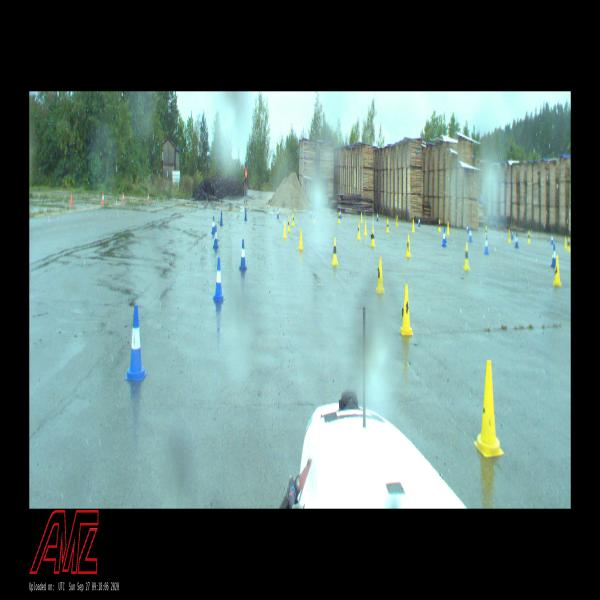blue_cone: (125, 305, 147, 380), (212, 258, 225, 300), (240, 239, 246, 270), (213, 226, 218, 248), (552, 244, 556, 267), (442, 226, 447, 242), (484, 235, 488, 254), (211, 216, 215, 234), (442, 228, 446, 246), (515, 232, 519, 248), (469, 226, 472, 242), (276, 206, 280, 218), (220, 210, 223, 226), (244, 208, 247, 221), (309, 206, 312, 219), (376, 212, 379, 220), (551, 233, 553, 244), (418, 216, 420, 226), (511, 229, 513, 239), (340, 210, 342, 219), (467, 222, 468, 233)
orange_cone: (70, 194, 73, 205), (122, 192, 125, 202), (102, 193, 104, 204), (148, 194, 150, 202)
yellow_cone: (474, 360, 504, 456), (400, 285, 413, 336), (376, 258, 385, 292), (553, 256, 561, 285), (331, 237, 338, 265), (464, 244, 470, 270), (405, 235, 411, 257), (369, 227, 375, 246), (299, 228, 304, 250), (283, 221, 287, 238), (411, 219, 415, 232), (357, 223, 360, 239), (287, 216, 290, 231), (364, 220, 367, 235), (312, 210, 315, 224), (386, 219, 389, 232), (564, 236, 567, 248), (360, 211, 363, 223), (438, 220, 441, 230), (292, 212, 294, 226), (508, 229, 510, 242), (568, 238, 570, 250), (447, 222, 449, 234), (528, 231, 530, 242), (396, 216, 398, 226), (338, 212, 340, 222), (485, 226, 487, 236)
